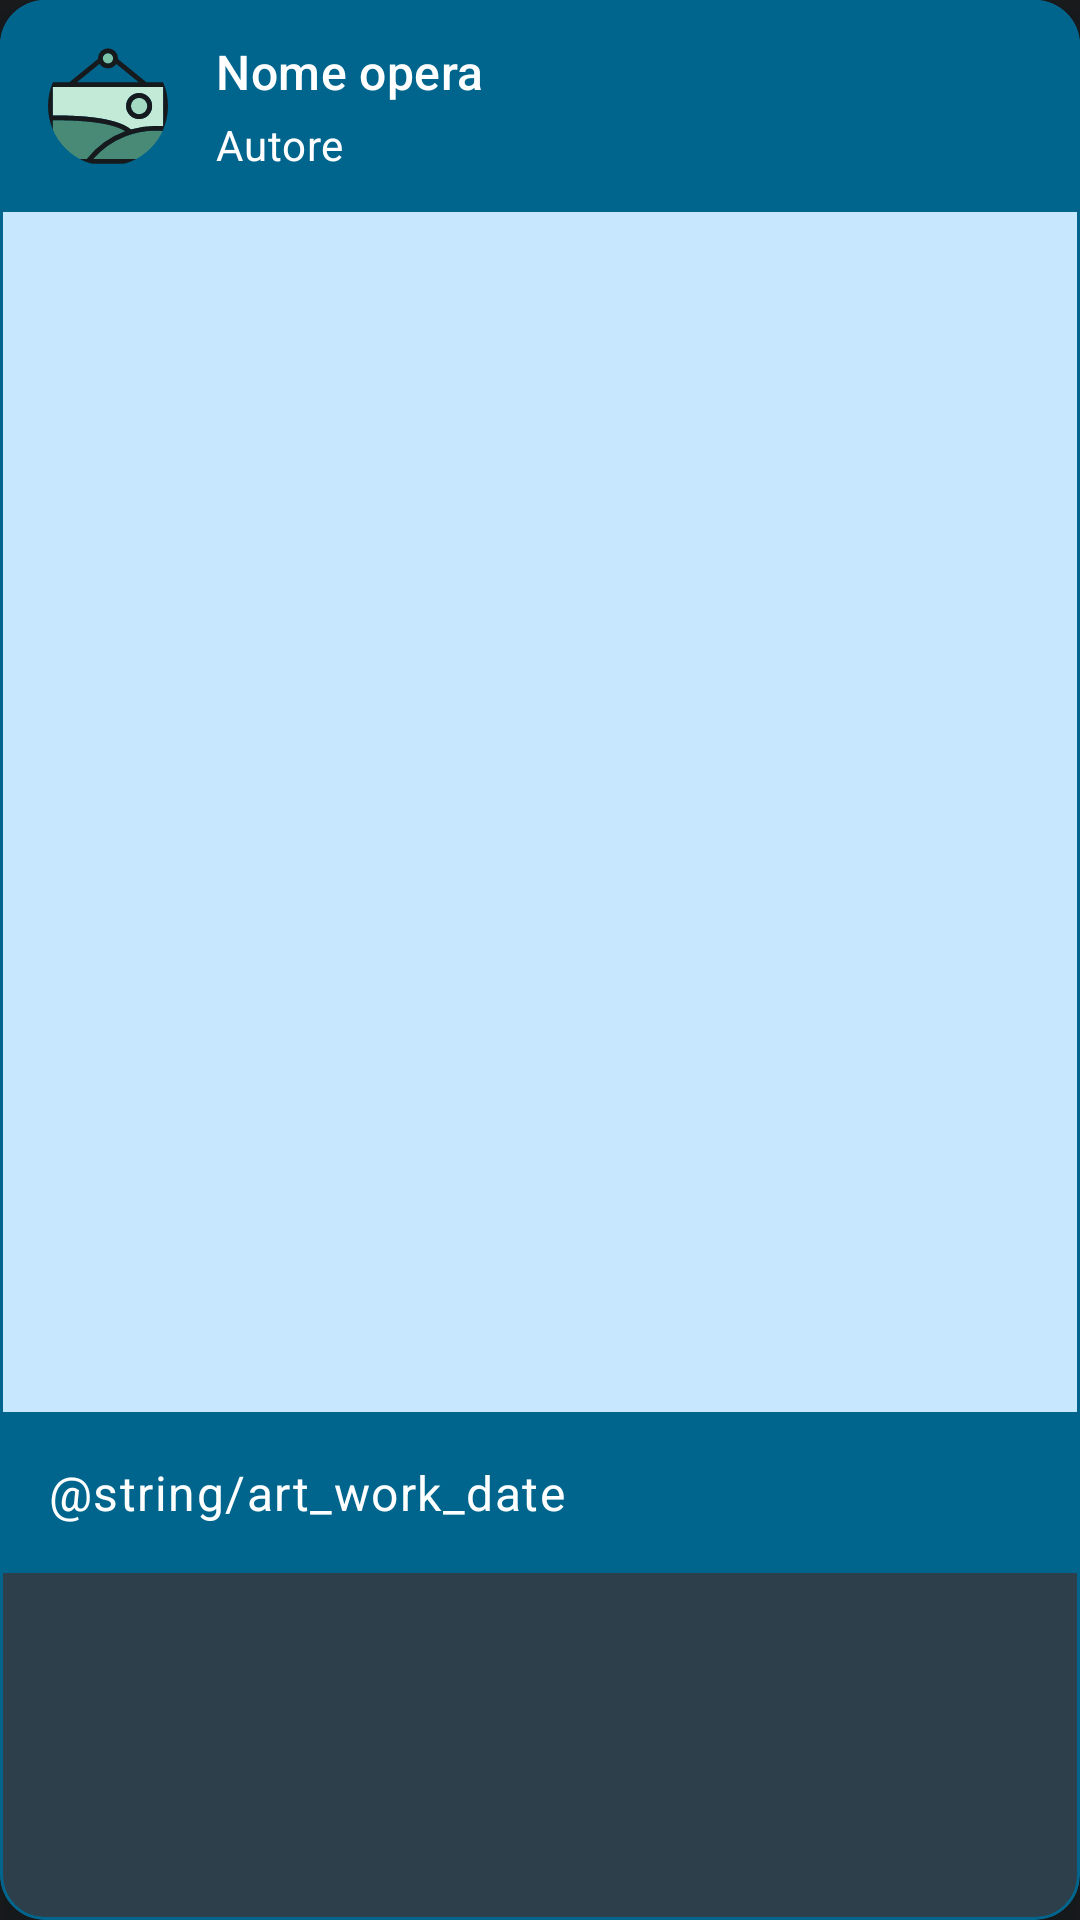

Named icons in this screenshot (1080 x 1920) and their centers, [x,y]:
artwork: [108,106]
